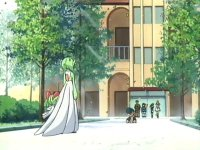gardevoir: (38, 57, 80, 138)
